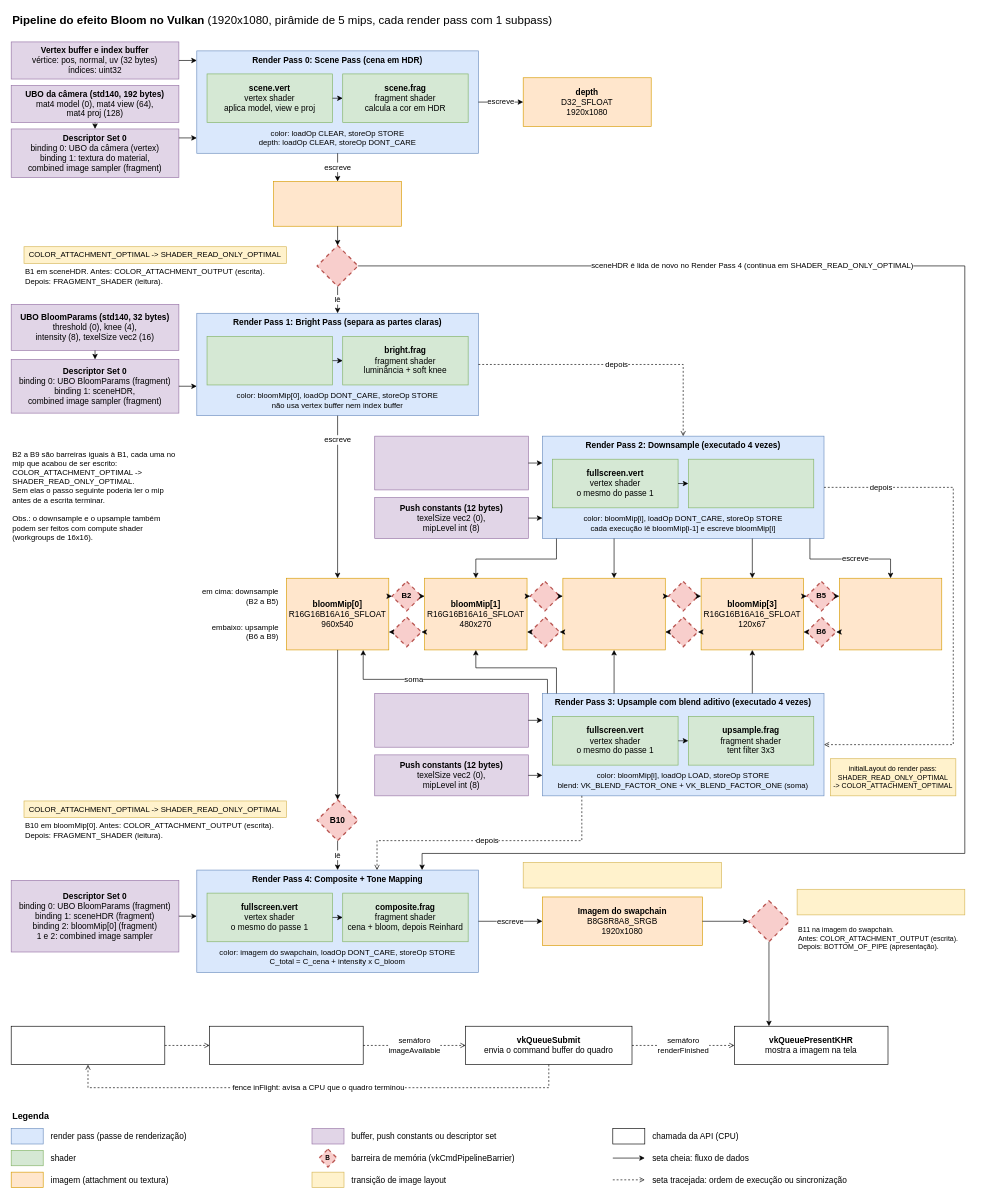
Some shapes in this 985 by 1199 pixel diagram are drawn without their labels. The shapes that lost their labels are listed below. From the top down, each one's centre as x and y in pixels, then its label:
At (x=337, y=203): "sceneHDR R16G16B16A16_SFLOAT 1920x1080".
At (x=337, y=265): "B1".
At (x=269, y=360): "fullscreen.vert vertex shader triângulo com gl_VertexIndex".
At (x=451, y=463): "Descriptor Set 0 binding 0: bloomMip[i-1], combined image sampler (fragment)".
At (x=751, y=483): "downsample.frag fragment shader filtro de 13 amostras".
At (x=544, y=595): "B3".
At (x=613, y=614): "bloomMip[2] R16G16B16A16_SFLOAT 240x135".
At (x=683, y=595): "B4".
At (x=890, y=614): "bloomMip[4] R16G16B16A16_SFLOAT 60x33".
At (x=406, y=631): "B9".
At (x=544, y=631): "B8".
At (x=683, y=631): "B7".
At (x=451, y=720): "Descriptor Set 0 binding 0: bloomMip[i+1], combined image sampler (fragment)".
At (x=622, y=875): "initialLayout do render pass: UNDEFINED -> COLOR_ATTACHMENT_OPTIMAL".
At (x=769, y=921): "B11".
At (x=880, y=902): "COLOR_ATTACHMENT_OPTIMAL -> PRESENT_SRC_KHR".
At (x=88, y=1045): "CPU vkWaitForFences (espera o quadro anterior)".
At (x=286, y=1045): "vkAcquireNextImageKHR pega uma imagem do swapchain".
